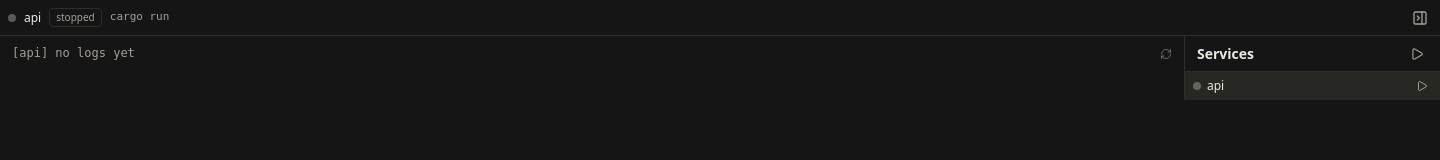
RuntimePanel — service controls › error banner clears when service status changes
What coordinates should you click on to do the following:
click the button named "Start api"
I would click on:
 (1422, 86)
Its box is [1412,76,1432,96].
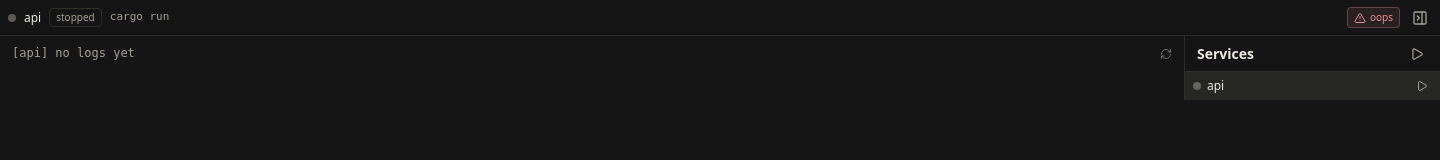
Expected: the message "oops" is shown, [1347,7,1400,28]
